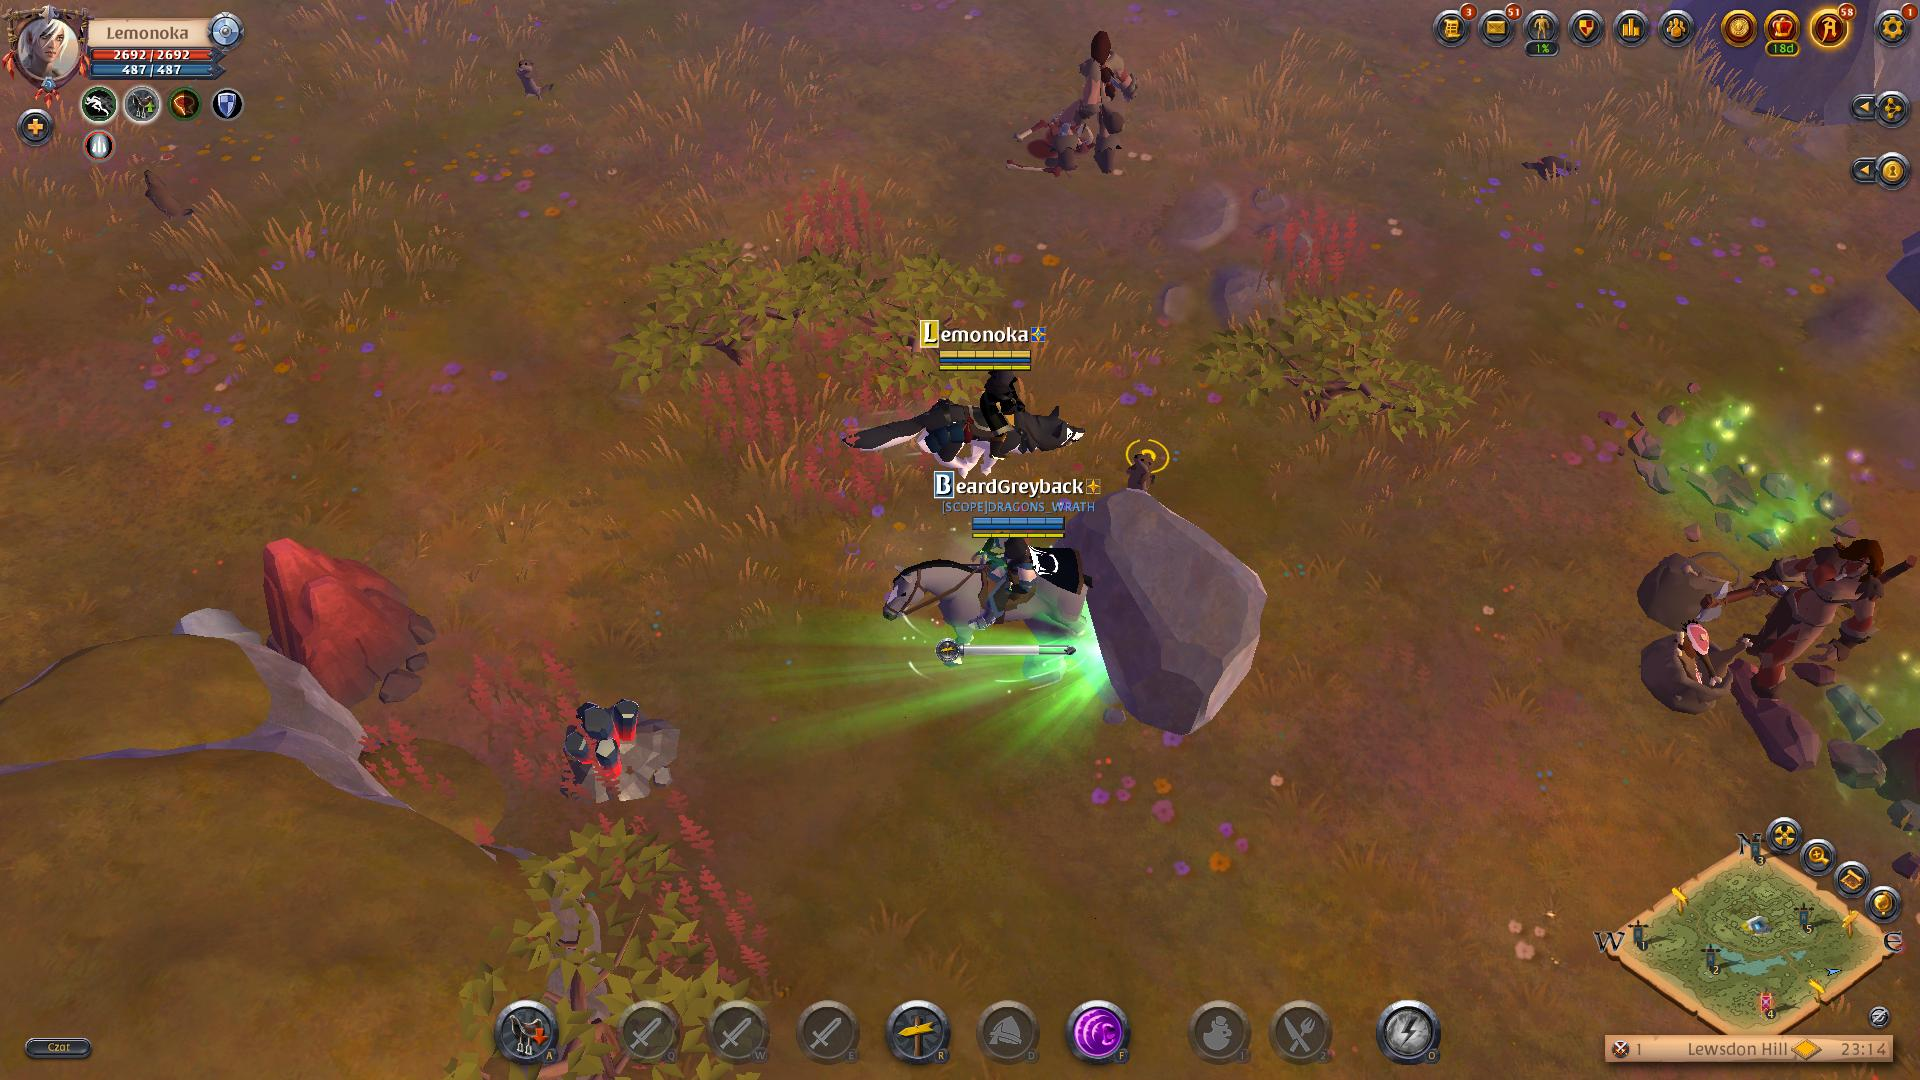ore tier 5: (541, 694, 683, 810)
rock tier 5: (252, 537, 435, 713)
